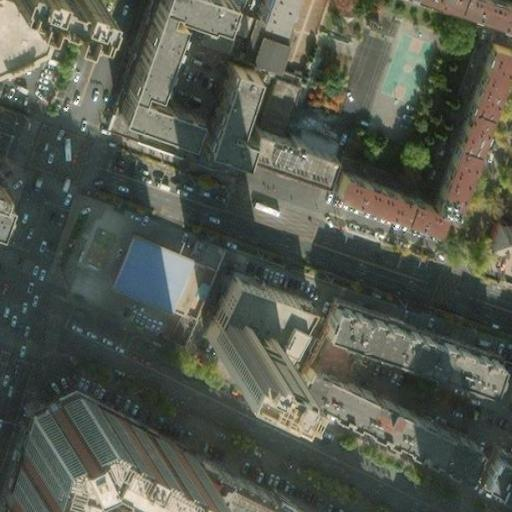building: (0, 395, 186, 512), (286, 363, 472, 476), (112, 0, 232, 142), (318, 304, 492, 392), (432, 34, 510, 208), (213, 284, 315, 353), (332, 169, 446, 228), (203, 64, 270, 160), (102, 235, 185, 312), (246, 122, 332, 173), (203, 320, 283, 374), (179, 472, 282, 512), (257, 73, 303, 130), (465, 212, 512, 265), (473, 455, 512, 508), (242, 14, 279, 51), (252, 0, 292, 25)
